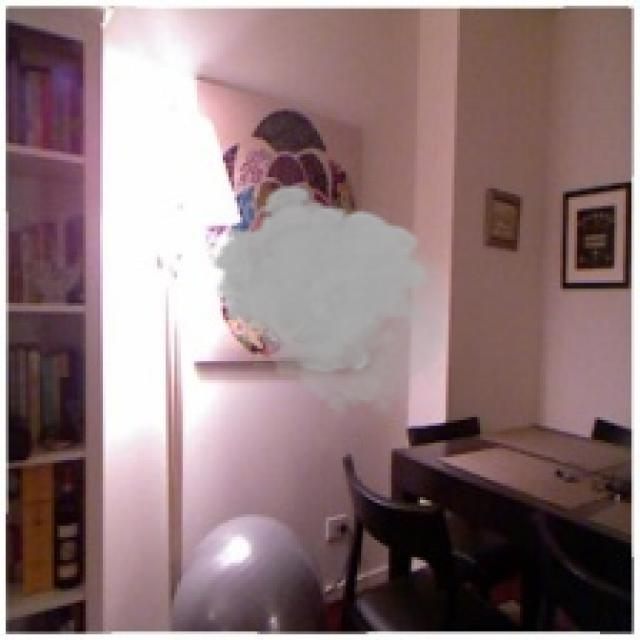smoke: (208, 183, 448, 423)
